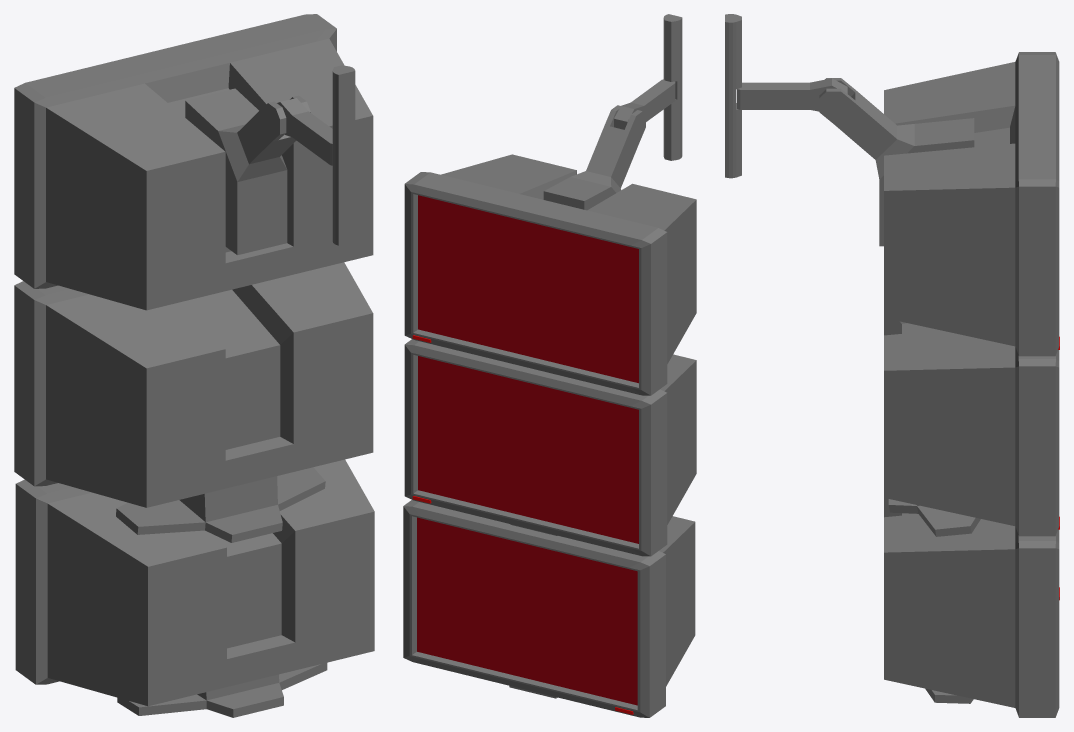
Rendered from 3screengroup.obj.
3 views of the same model, side by side, from view 1: azimuth 30°, elevation 25°; view 2: azimuth 150°, elevation 25°; view 3: azimuth 270°, elevation 25° (orthographic). The views are drawn at different scales.
Parts seen in each view (by area): view 1: computerScreen01:Mesh; view 2: computerScreen01:Mesh; view 3: computerScreen01:Mesh.
Boxes of the visible parts, box(x1,y1,x2,y2) form: computerScreen01:Mesh: box(14, 14, 374, 717); computerScreen01:Mesh: box(403, 14, 696, 717); computerScreen01:Mesh: box(725, 14, 1059, 717).
Bounding box in the file's own units: 3.65 × 8.08 × 3.82.
